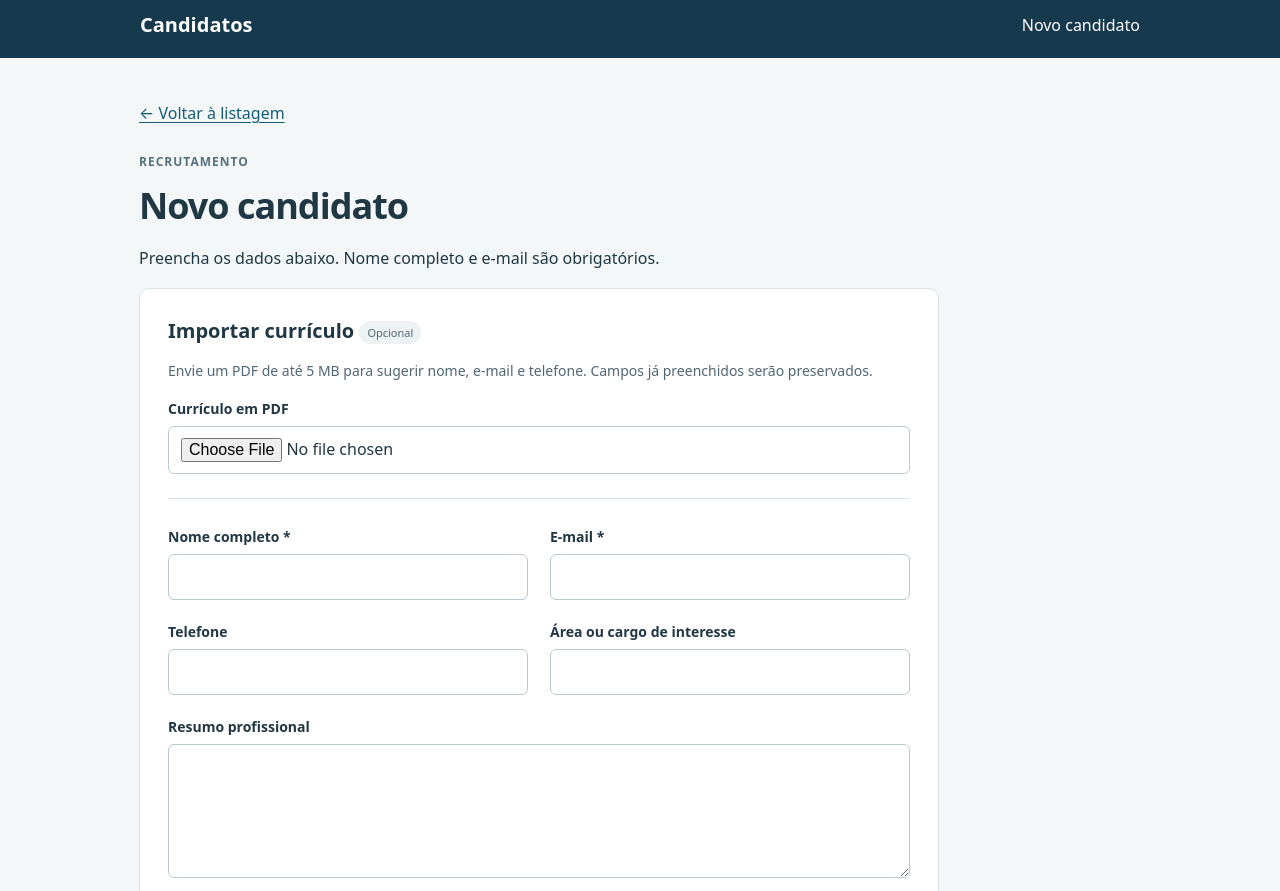
Test: exibe erro de validação retornado pelo backend
This screenshot has width=1280, height=891.
Type "Ana Silva" into the field labelled "Nome completo" at (348, 577), box [168, 554, 528, 600]
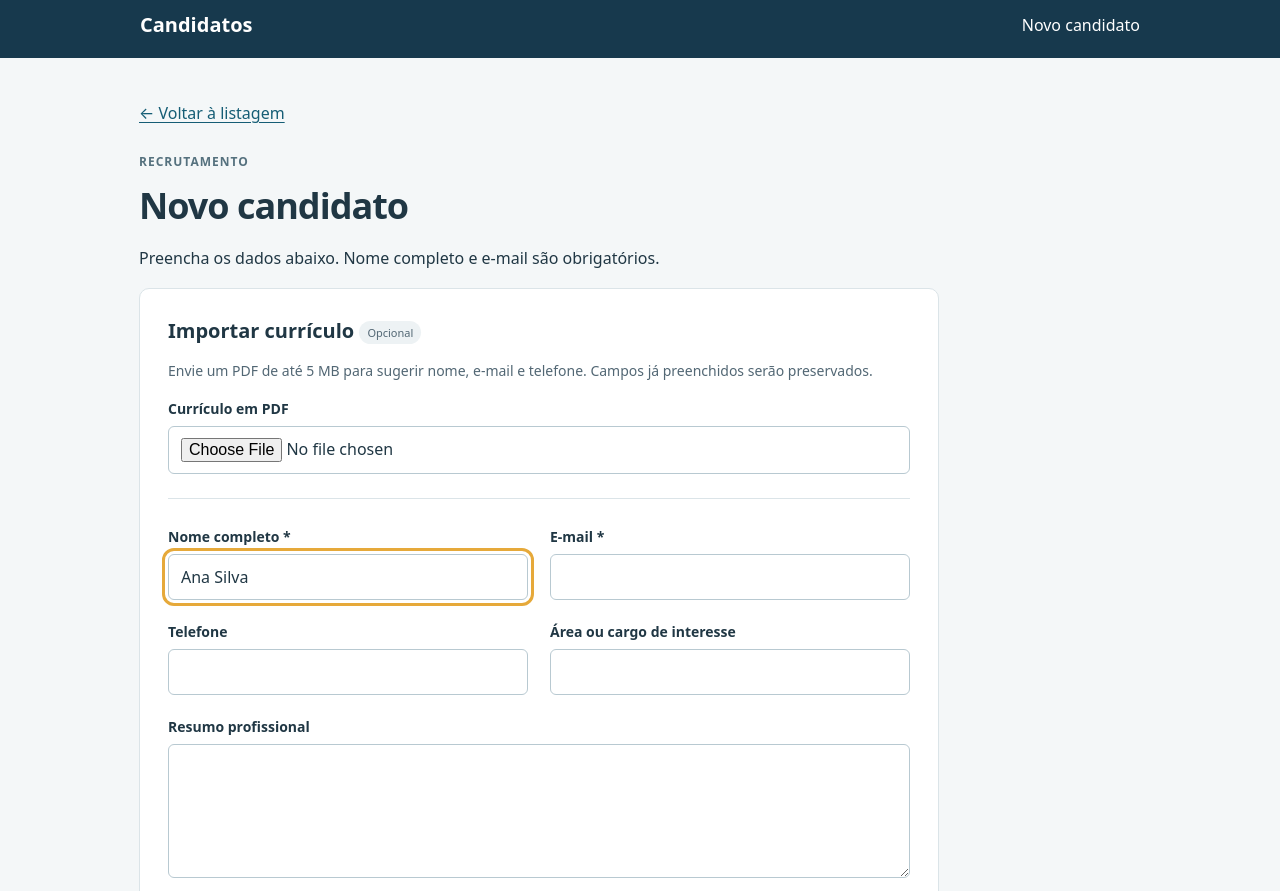
Type "ana@example.com" into the field labelled "E-mail" at (730, 577), box [550, 554, 910, 600]
(page scrolled)
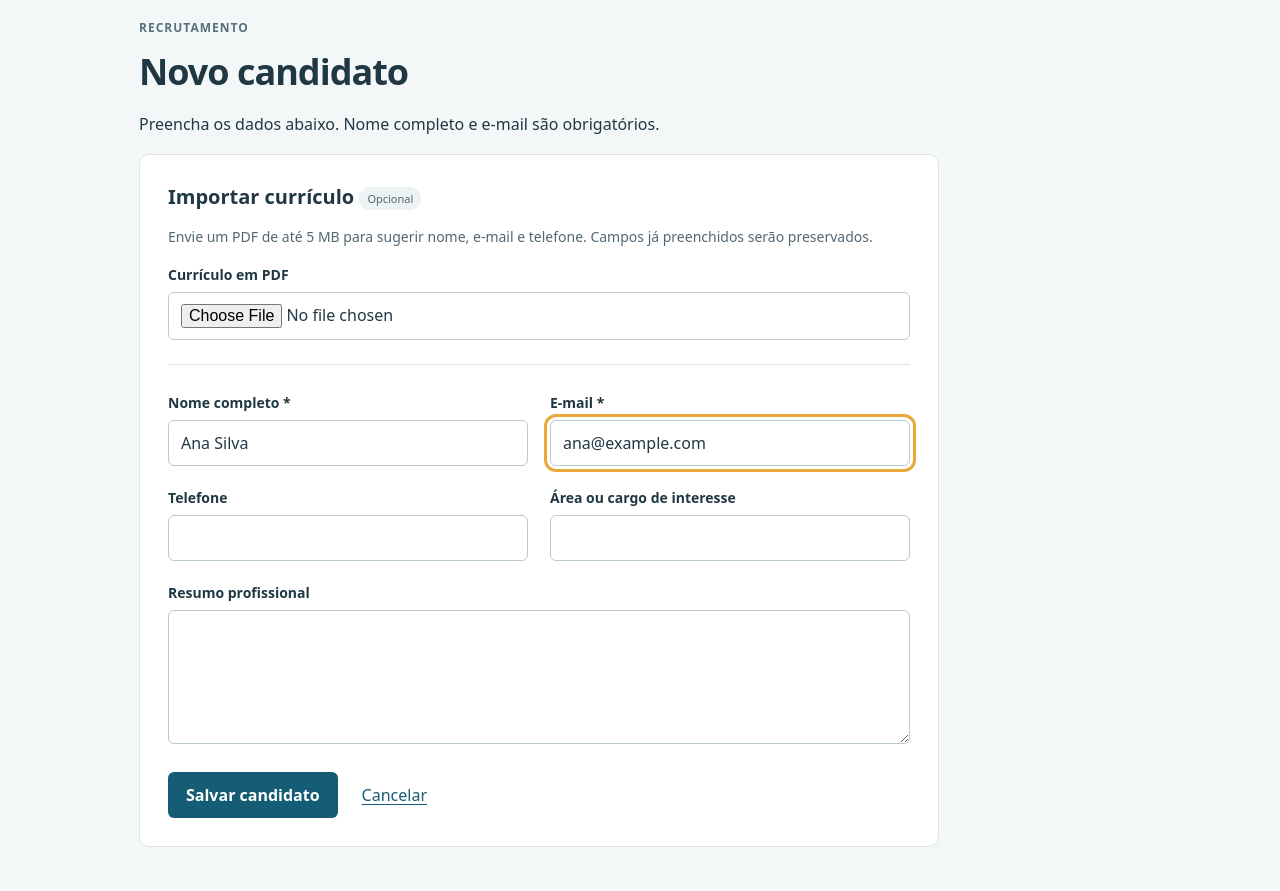
Click the button "Salvar candidato" at (253, 795), box [168, 772, 338, 818]
(page scrolled)
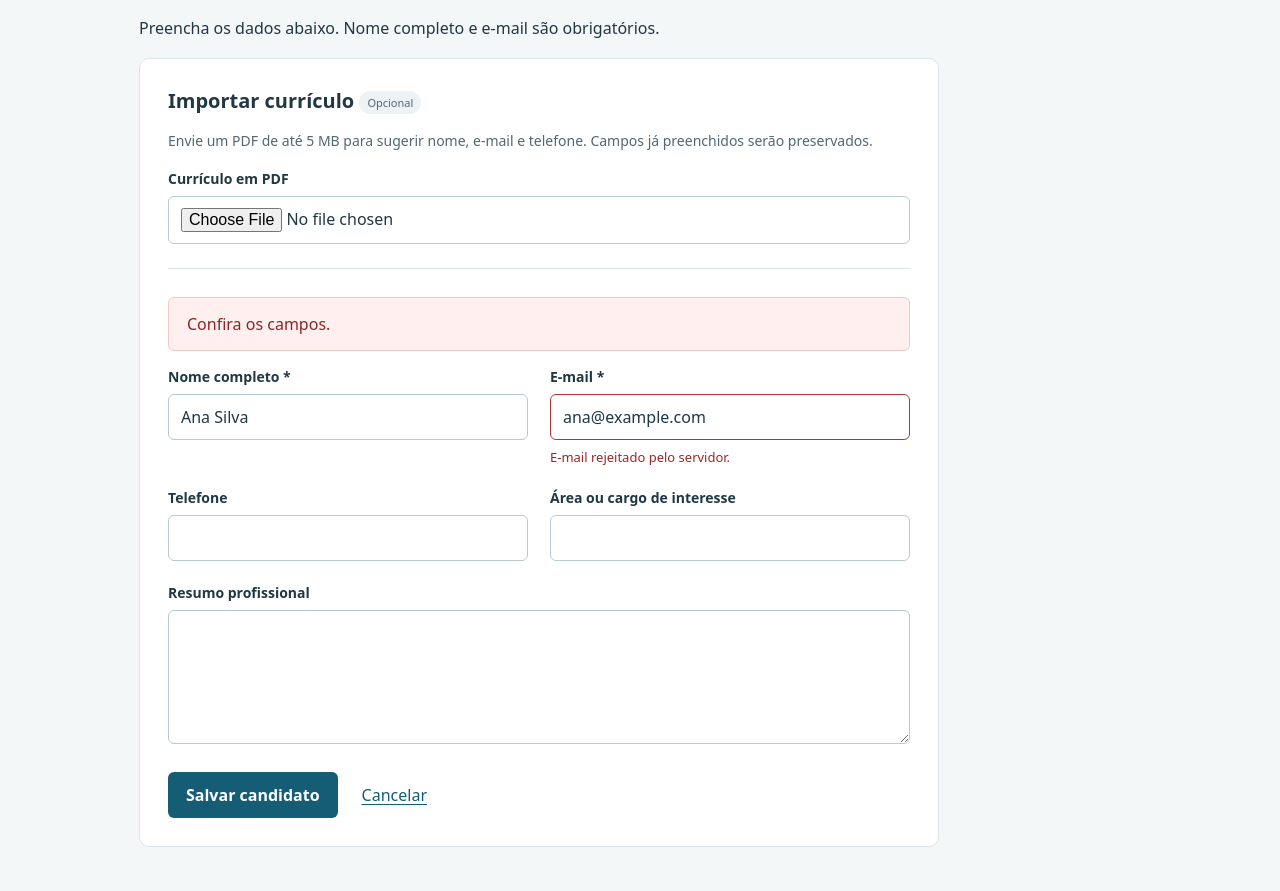
expect the text "E-mail rejeitado pelo servidor." is shown: met, box [550, 448, 730, 466]
